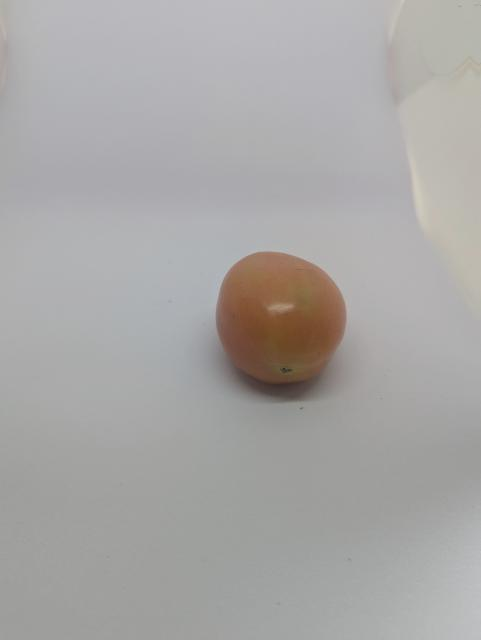turning: (211, 240, 352, 393)
